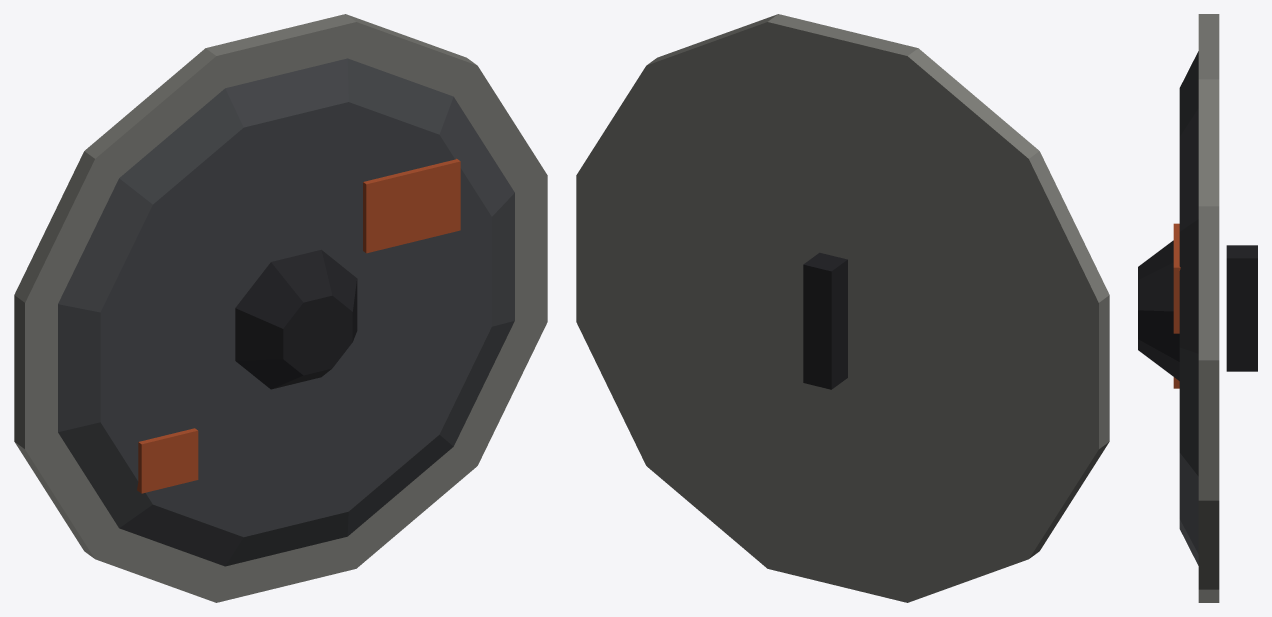
Rendered from scrap_lid_shield.glb.
3 views of the same model, side by side, from view 1: azimuth 30°, elevation 25°; view 2: azimuth 150°, elevation 25°; view 3: azimuth 270°, elevation 25° (orthographic). The views are drawn at different scales.
Visible parts, largest first — view 1: scrap_lid_shield; view 2: scrap_lid_shield; view 3: scrap_lid_shield.
Part boxes in pixels (bbox=[...]): scrap_lid_shield: bbox=[14, 14, 547, 602]; scrap_lid_shield: bbox=[576, 14, 1109, 602]; scrap_lid_shield: bbox=[1138, 14, 1257, 602].
Bounding box in the file's own units: 0.5544 × 0.5544 × 0.115.
